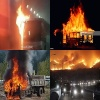fire: (62, 3, 94, 46), (3, 56, 28, 99), (50, 54, 100, 70), (15, 5, 31, 46), (53, 28, 59, 36)
